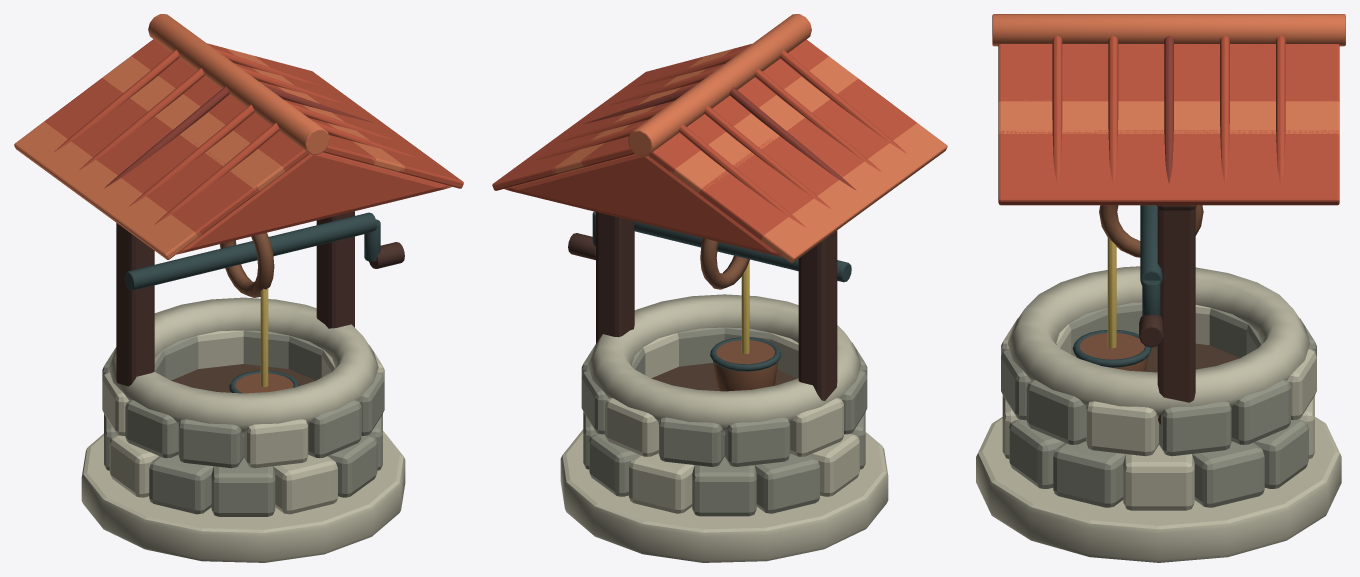
File: well.glb
3 views of the same model, side by side, from view 1: azimuth 30°, elevation 25°; view 2: azimuth 150°, elevation 25°; view 3: azimuth 270°, elevation 25° (orthographic). The views are drawn at different scales.
Visible parts, largest first — view 1: well · stone_light, well · tile, well · stone, well · tile_light, well · wood, well · metal, well · wood_light, well · soil_dark, well · tile_dark, well · crop; view 2: well · stone_light, well · tile, well · tile_light, well · stone, well · wood, well · wood_light, well · metal, well · tile_dark, well · soil_dark, well · crop; view 3: well · stone_light, well · tile, well · stone, well · tile_light, well · wood, well · metal, well · wood_light, well · tile_dark, well · crop, well · soil_dark.
Part boxes in pixels (<box>): well · stone_light: <box>81,297,405,562</box>; well · tile: <box>44,39,463,254</box>; well · stone: <box>102,330,384,516</box>; well · tile_light: <box>14,14,404,259</box>; well · wood: <box>116,211,404,386</box>; well · metal: <box>124,212,380,393</box>; well · wood_light: <box>220,232,293,393</box>; well · soil_dark: <box>171,364,315,392</box>; well · tile_dark: <box>104,84,373,188</box>; well · crop: <box>260,288,268,387</box>; well · stone_light: <box>560,294,888,562</box>; well · tile: <box>492,39,916,257</box>; well · tile_light: <box>552,14,947,262</box>; well · stone: <box>581,327,867,516</box>; well · wood: <box>568,212,837,400</box>; well · wood_light: <box>700,238,778,391</box>; well · metal: <box>592,211,851,371</box>; well · tile_dark: <box>584,85,856,190</box>; well · soil_dark: <box>651,363,797,391</box>; well · crop: <box>741,261,749,353</box>; well · stone_light: <box>976,266,1341,562</box>; well · tile: <box>998,35,1339,205</box>; well · stone: <box>1001,302,1316,507</box>; well · tile_light: <box>992,14,1345,134</box>; well · wood: <box>1139,205,1196,424</box>; well · metal: <box>1072,205,1162,367</box>; well · wood_light: <box>1076,205,1203,371</box>; well · tile_dark: <box>1164,36,1173,183</box>; well · crop: <box>1107,237,1116,348</box>; well · soil_dark: <box>1146,343,1239,372</box>.
Size of the model in its own units: 0.7703 by 1.03 by 0.728.
